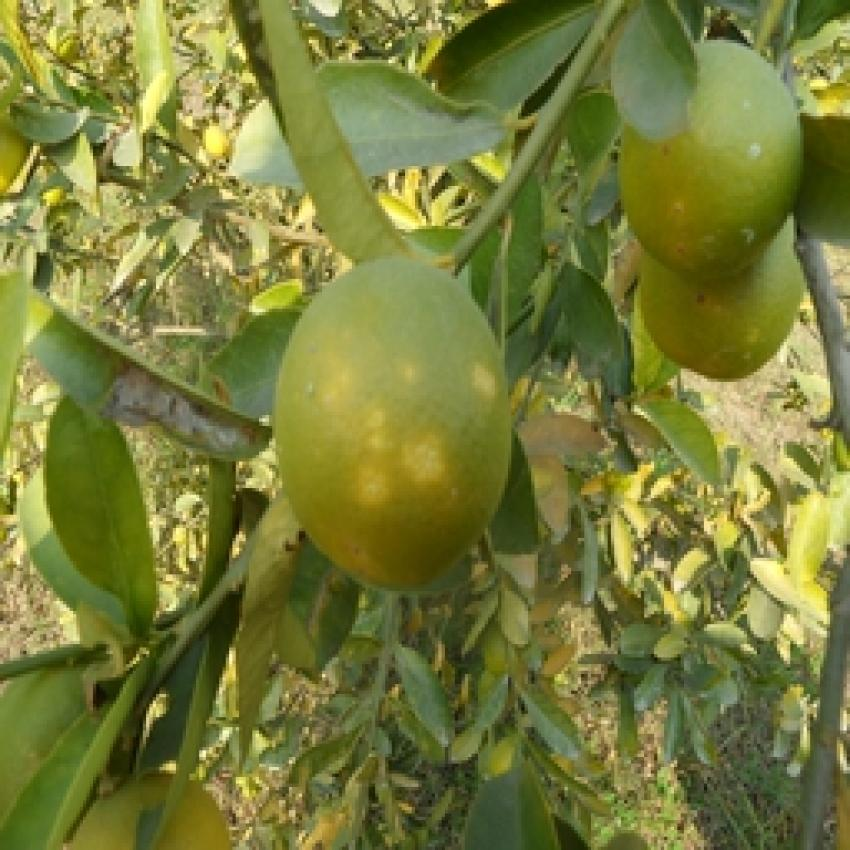Mal estado: (265, 241, 523, 587), (612, 41, 802, 278), (634, 198, 810, 400)
